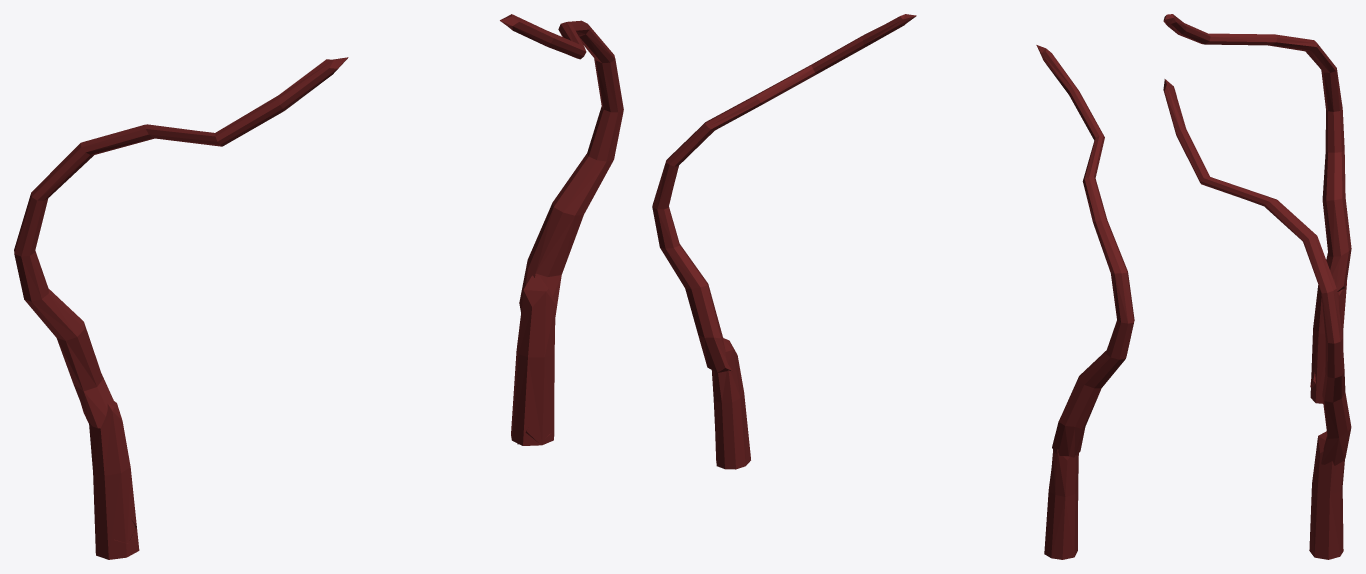
Rendered from Artéria Carótida Interna.FBX.
3 renders of one model, left to right at view 1: azimuth 30°, elevation 25°; view 2: azimuth 150°, elevation 25°; view 3: azimuth 270°, elevation 25°, orthographic. The views are drawn at different scales.
Visible parts, largest first — view 1: CS_Arterie; view 2: CS_Arterie; view 3: CS_Arterie.
Boxes of the visible parts, bbox=[...] form: CS_Arterie: bbox=[14, 14, 623, 559]; CS_Arterie: bbox=[652, 14, 1134, 559]; CS_Arterie: bbox=[1163, 14, 1351, 559].
Bounding box in the file's own units: 265 × 223 × 88.33.
